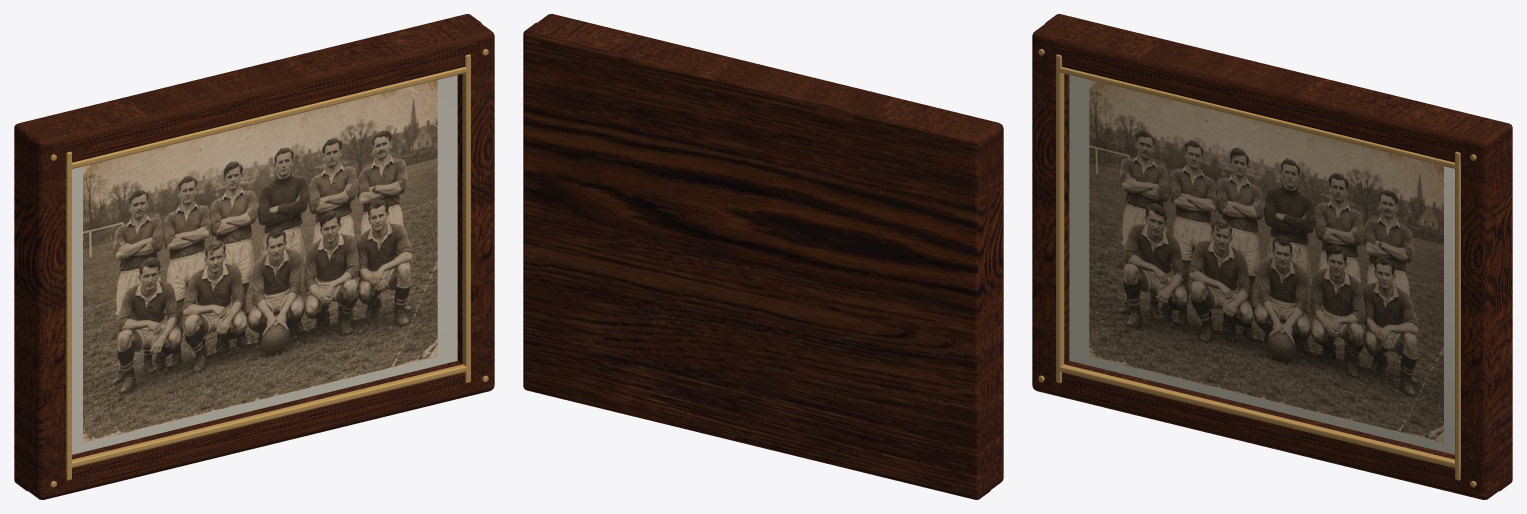
Rendered from pub-photo-frame.glb.
3 views of the same model, side by side, from view 1: azimuth 30°, elevation 25°; view 2: azimuth 150°, elevation 25°; view 3: azimuth 330°, elevation 25° (orthographic).
Parts seen in each view (by area): view 1: pub-photo-frame; view 2: pub-photo-frame; view 3: pub-photo-frame.
Boxes of the visible parts, x1,y1,x2,y2 form: pub-photo-frame: (14,14,494,499); pub-photo-frame: (523,14,1003,499); pub-photo-frame: (1032,14,1512,499).
Bounding box in the file's own units: 0.97 × 0.73 × 0.107.
Materials: 4 (2 with a texture image).
